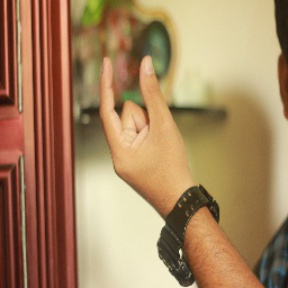U: (91, 49, 186, 183)
